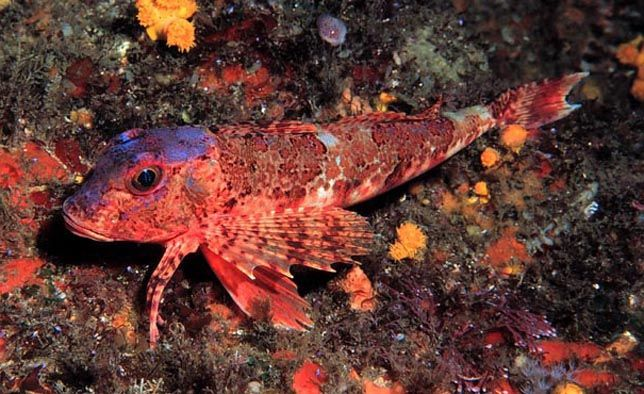fish: (63, 71, 589, 345)
